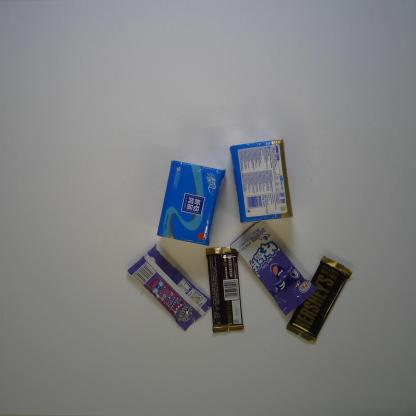Candy: (229, 216, 318, 317), (126, 243, 213, 332)
Chocolate: (284, 255, 354, 344), (204, 243, 246, 336)
Tissue: (156, 158, 227, 249), (229, 138, 294, 224)
